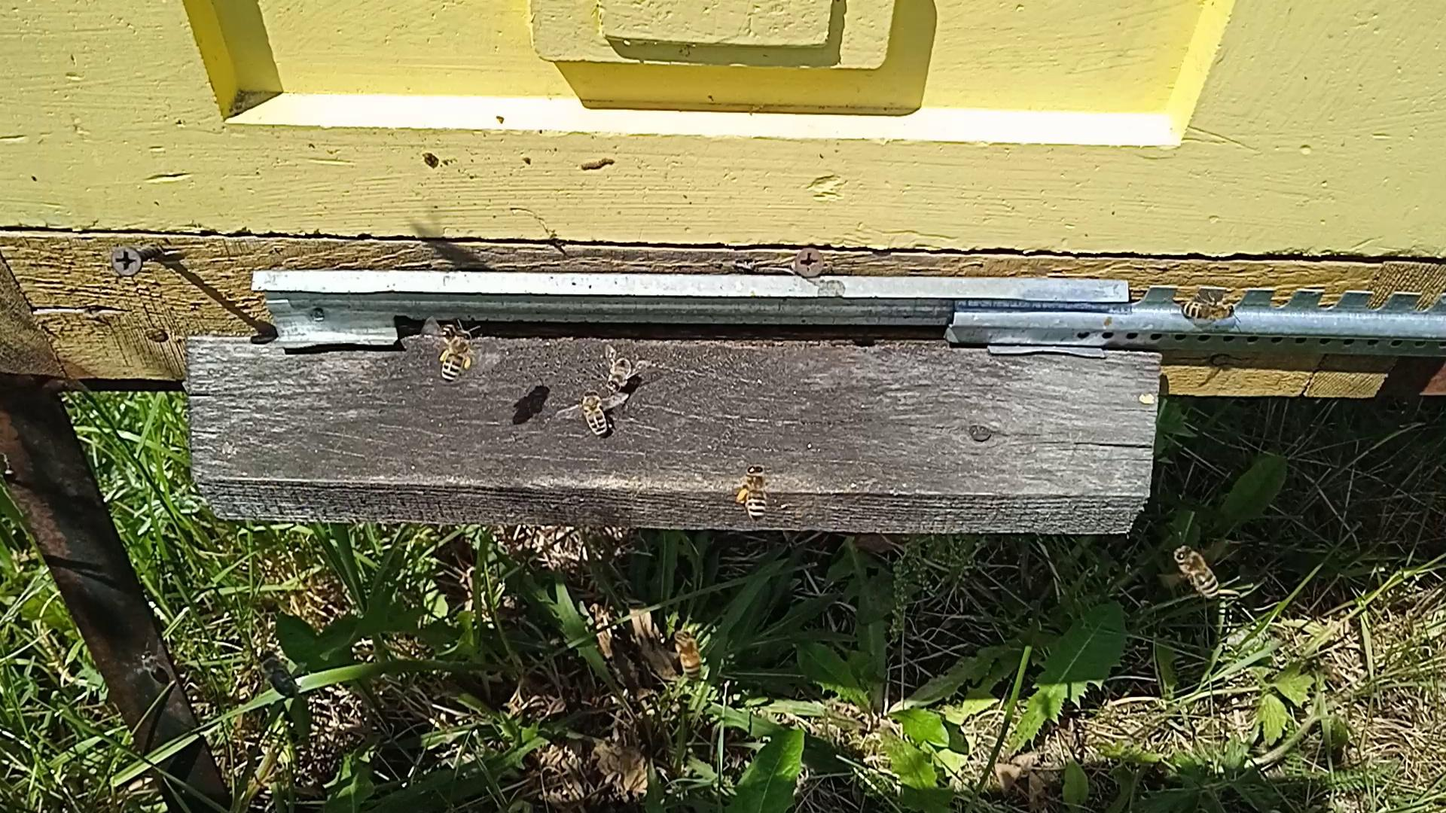worker-bee: (1173, 544, 1221, 600), (1174, 295, 1240, 326), (257, 651, 299, 699), (736, 463, 770, 522), (439, 330, 471, 384), (579, 389, 611, 437), (672, 629, 703, 678), (603, 354, 634, 393), (139, 652, 169, 684), (438, 321, 463, 340)
